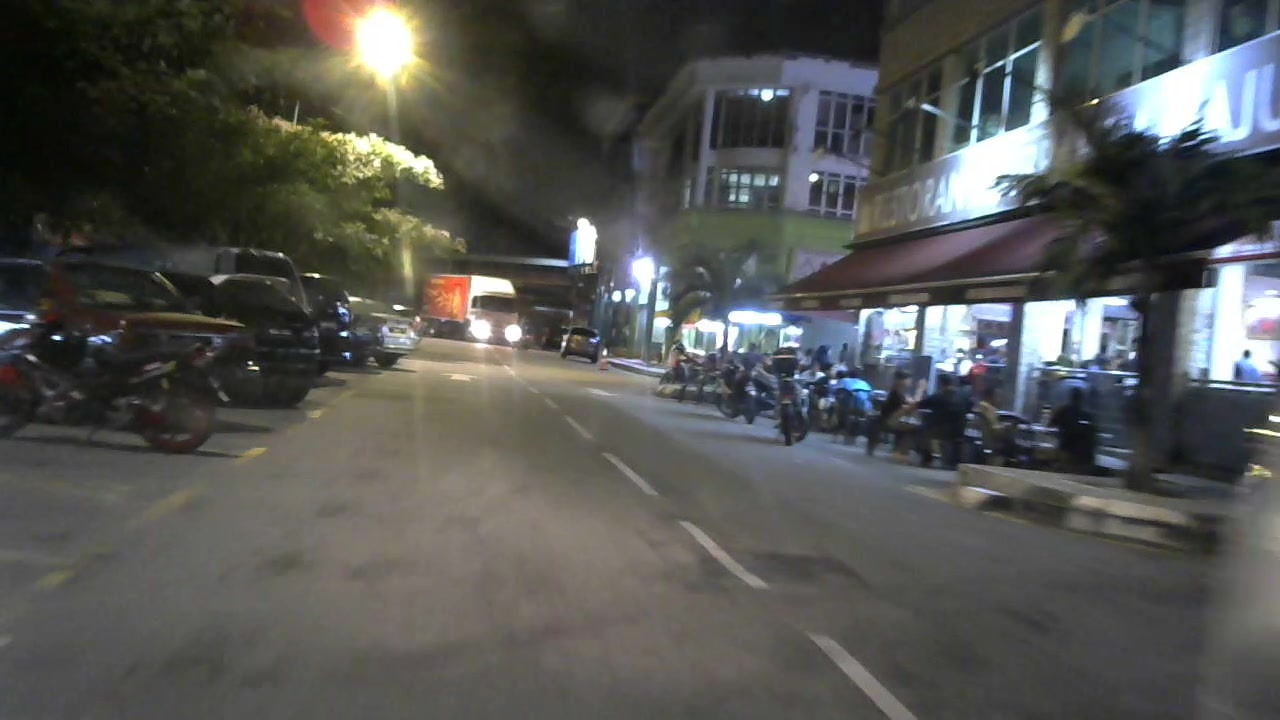Car: (202, 263, 322, 408), (350, 294, 419, 369), (559, 314, 610, 364)
